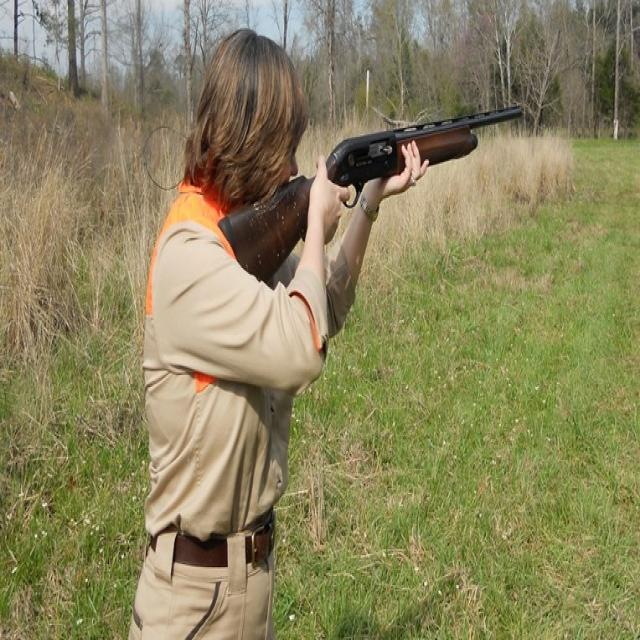ShotGun: (213, 98, 530, 312)
